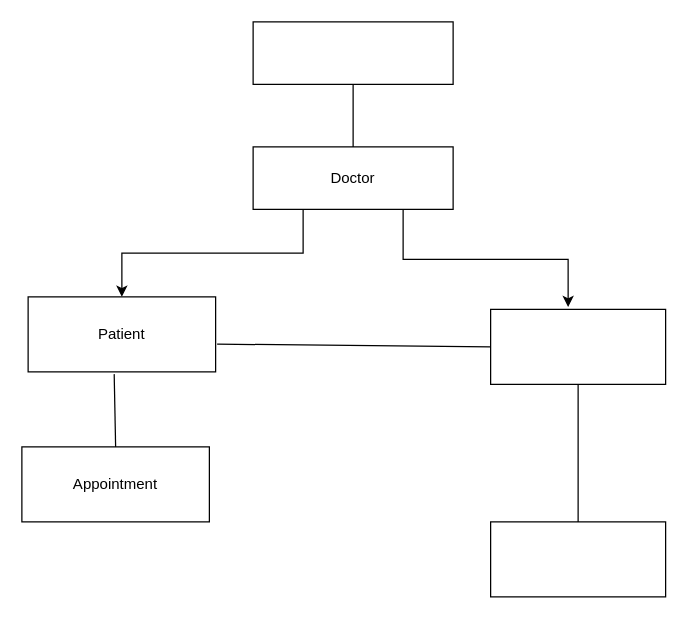
The diagram is 688 pixels wide and 619 high, and some of its shapes have lost their labels. The centre of each missing label's shape, as x and y in pixels:
"Department" belongs at [352,52].
"Prescription" belongs at [577,346].
